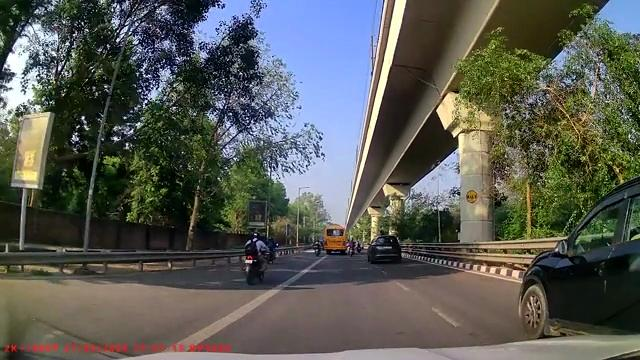motorcycle_with_helmet: (241, 231, 268, 286)
